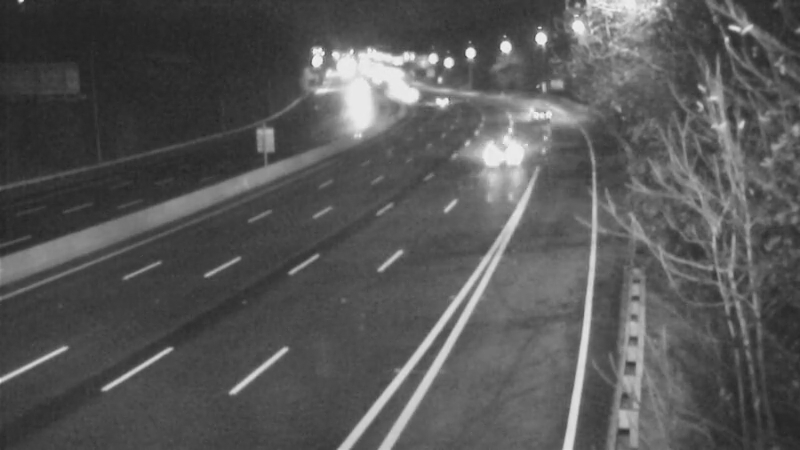vehicle: (415, 77, 465, 127), (521, 92, 571, 142), (472, 124, 522, 174)
